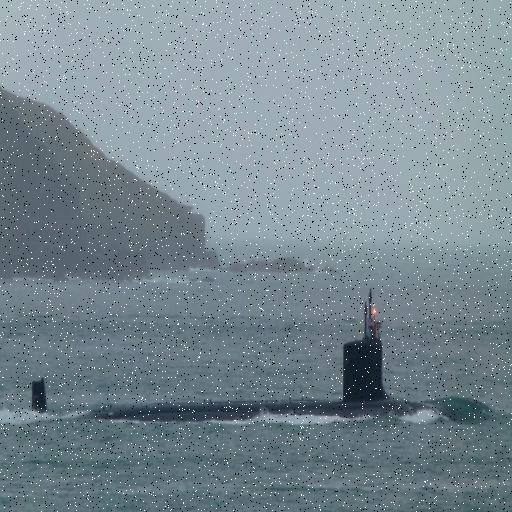submarine: (31, 334, 443, 422)
